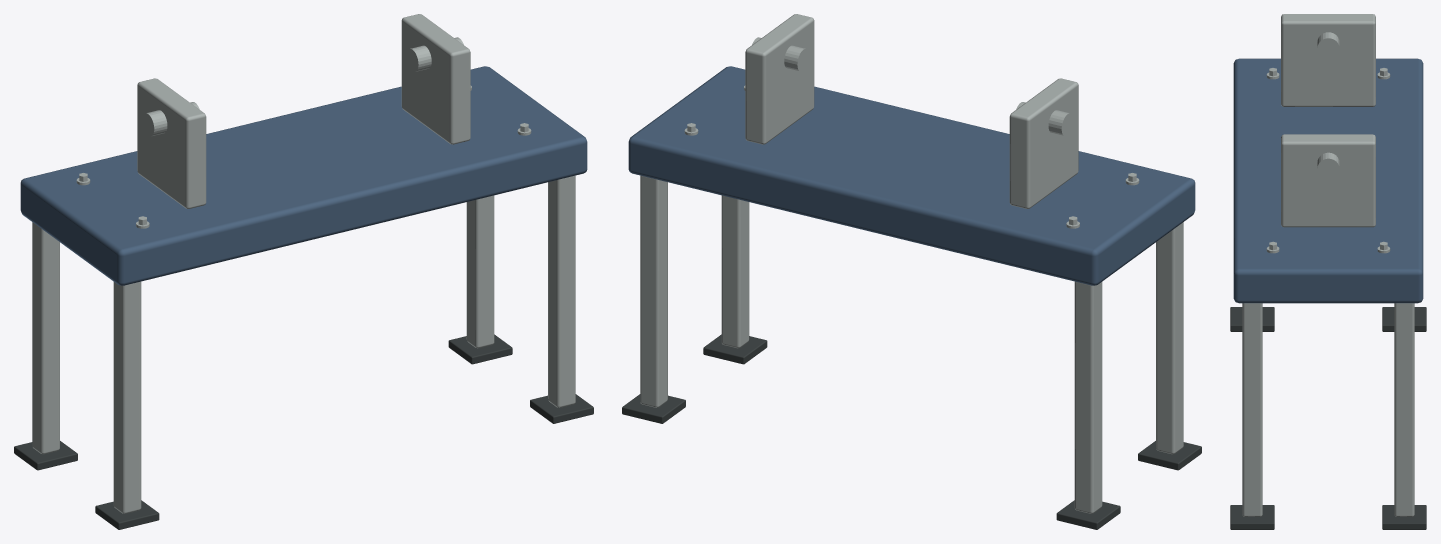
The model's file is spacecraft-parachute-packing-hall-spacecraft-parachute-c69306d3__32083.glb.
The picture shows the model from 3 angles, left to right: view 1: azimuth 30°, elevation 25°; view 2: azimuth 150°, elevation 25°; view 3: azimuth 270°, elevation 25°; orthographic projection. The views are drawn at different scales.
Visible parts, largest first — view 1: spacecraft-parachute-packing-hall-riser-attachment-fixture; view 2: spacecraft-parachute-packing-hall-riser-attachment-fixture; view 3: spacecraft-parachute-packing-hall-riser-attachment-fixture.
Part boxes in pixels (left/top/right/bottom): spacecraft-parachute-packing-hall-riser-attachment-fixture: left=14, top=14, right=593, bottom=529; spacecraft-parachute-packing-hall-riser-attachment-fixture: left=622, top=14, right=1201, bottom=529; spacecraft-parachute-packing-hall-riser-attachment-fixture: left=1230, top=14, right=1426, bottom=529.
Bounding box in the file's own units: 1.62 × 1.2 × 0.62.
